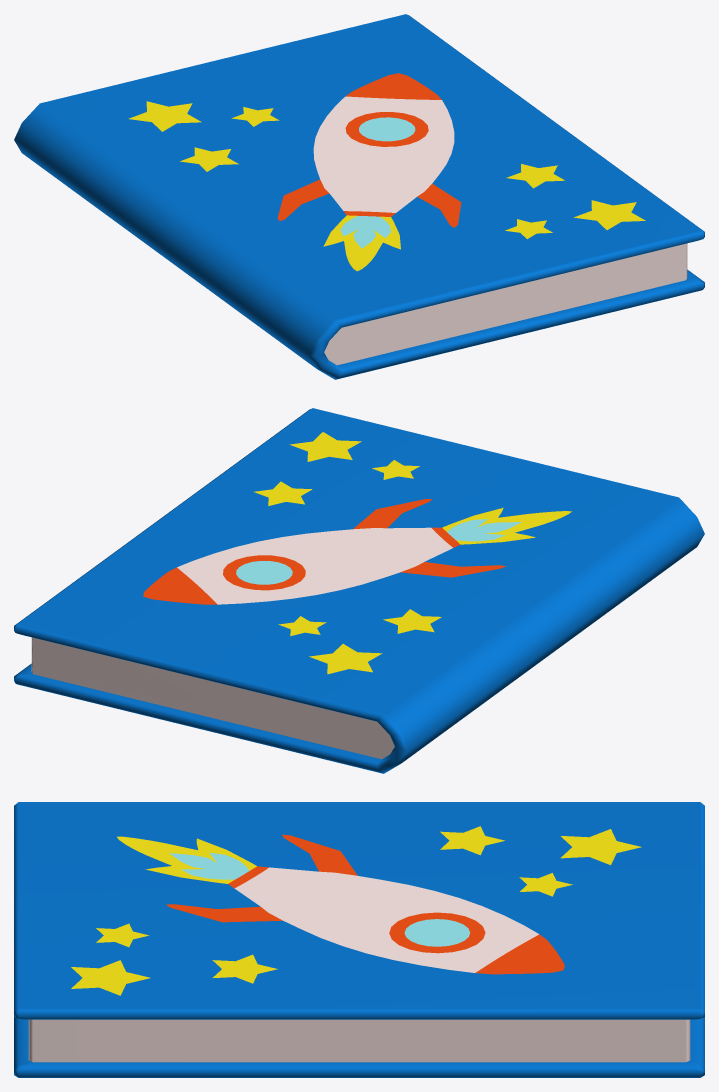
File: Public_17_Book_1.glb
The picture shows the model from 3 angles, top to bottom: view 1: azimuth 30°, elevation 25°; view 2: azimuth 150°, elevation 25°; view 3: azimuth 270°, elevation 25°; orthographic projection. The views are drawn at different scales.
Parts seen in each view (by area): view 1: Public_17_Book_1; view 2: Public_17_Book_1; view 3: Public_17_Book_1.
Part boxes in pixels (left/top/right/bottom): Public_17_Book_1: left=14, top=14, right=704, bottom=379; Public_17_Book_1: left=14, top=408, right=704, bottom=773; Public_17_Book_1: left=14, top=802, right=704, bottom=1077.
Size of the model in its own units: 1.09 by 0.1629 by 1.43.
Materials: 1 (1 with a texture image).
